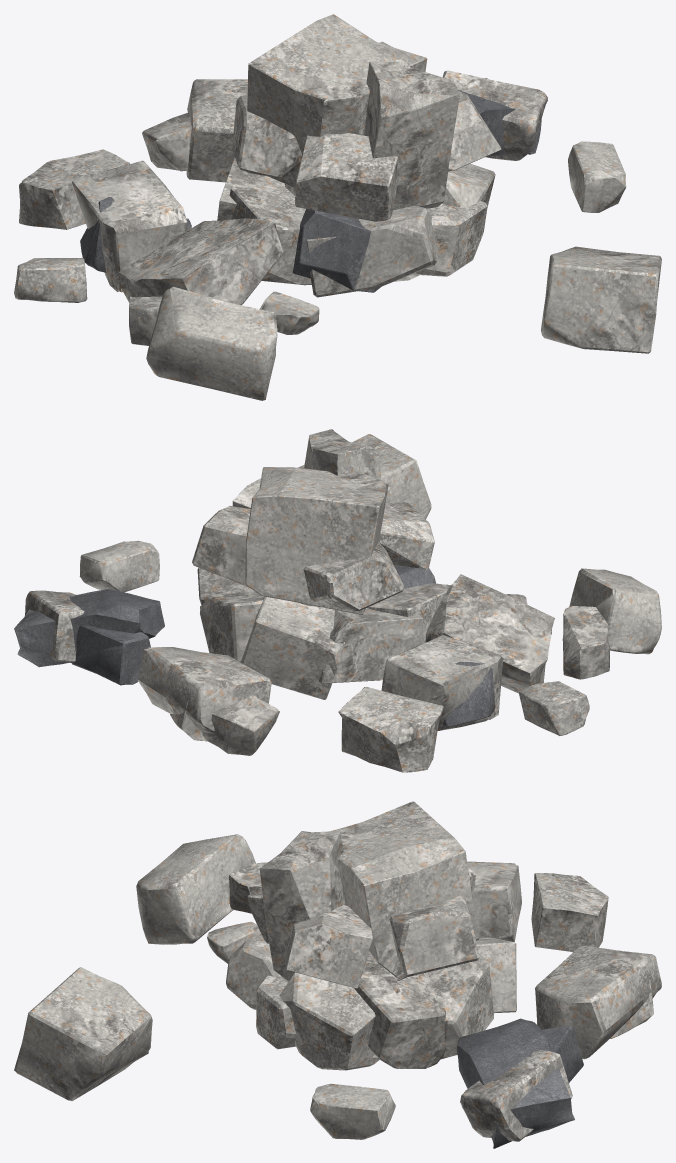
The model's file is cima-algas.glb.
The picture shows the model from 3 angles, top to bottom: view 1: azimuth 30°, elevation 25°; view 2: azimuth 150°, elevation 25°; view 3: azimuth 270°, elevation 25°; orthographic projection. The views are drawn at different scales.
Parts seen in each view (by area): view 1: hito_caliza_clara, bloque4, bloque12, bloque2, bloque10, bloque6, bloque9, hito_caliza_gris, bloque0, bloque3, bloque11, bloque13 (+4 smaller); view 2: hito_caliza_clara, bloque2, bloque6, bloque9, bloque10, bloque4, bloque5, bloque3, bloque7, bloque15, bloque13, bloque11 (+4 smaller); view 3: hito_caliza_clara, bloque12, bloque6, bloque4, bloque5, bloque9, bloque0, bloque3, bloque10, bloque7, bloque14, bloque15 (+1 smaller).
Boxes of the visible parts, x1=… form: hito_caliza_clara: x1=217, y1=14, x2=501, y2=297; bloque4: x1=146, y1=286, x2=277, y2=400; bloque12: x1=541, y1=246, x2=661, y2=353; bloque2: x1=118, y1=218, x2=283, y2=304; bloque10: x1=72, y1=160, x2=187, y2=292; bloque6: x1=186, y1=79, x2=247, y2=182; bloque9: x1=19, y1=149, x2=129, y2=229; hito_caliza_gris: x1=292, y1=209, x2=381, y2=292; bloque0: x1=443, y1=70, x2=547, y2=160; bloque3: x1=568, y1=141, x2=626, y2=212; bloque11: x1=14, y1=258, x2=87, y2=302; bloque13: x1=142, y1=112, x2=191, y2=171; hito_caliza_clara: x1=192, y1=429, x2=450, y2=699; bloque2: x1=425, y1=574, x2=554, y2=693; bloque6: x1=137, y1=647, x2=271, y2=733; bloque9: x1=338, y1=687, x2=443, y2=772; bloque10: x1=381, y1=635, x2=503, y2=731; bloque4: x1=569, y1=568, x2=661, y2=654; bloque5: x1=14, y1=588, x2=164, y2=667; bloque3: x1=79, y1=540, x2=159, y2=592; bloque7: x1=71, y1=625, x2=150, y2=685; bloque15: x1=562, y1=606, x2=609, y2=679; bloque13: x1=201, y1=695, x2=279, y2=755; bloque11: x1=519, y1=681, x2=589, y2=735; hito_caliza_clara: x1=226, y1=801, x2=516, y2=1070; bloque12: x1=14, y1=967, x2=152, y2=1100; bloque6: x1=535, y1=945, x2=661, y2=1059; bloque4: x1=136, y1=834, x2=255, y2=944; bloque5: x1=456, y1=1018, x2=574, y2=1148; bloque9: x1=531, y1=873, x2=608, y2=952; bloque0: x1=460, y1=1050, x2=572, y2=1141; bloque3: x1=310, y1=1083, x2=395, y2=1139; bloque10: x1=467, y1=861, x2=521, y2=941; bloque7: x1=541, y1=1026, x2=583, y2=1082; bloque14: x1=207, y1=921, x2=260, y2=963; bloque15: x1=229, y1=862, x2=267, y2=913.
Bounding box in the file's own units: 4.63 × 1.67 × 4.66.
2 materials, 2 textured.
